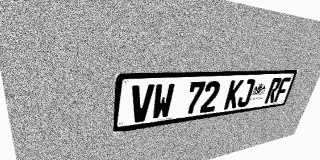2: (200, 81, 221, 113)
7: (183, 81, 206, 116)
F: (274, 77, 291, 102)
J: (236, 79, 256, 108)
K: (223, 80, 244, 110)
R: (264, 78, 282, 104)
V: (129, 84, 155, 123)
W: (151, 83, 175, 120)
